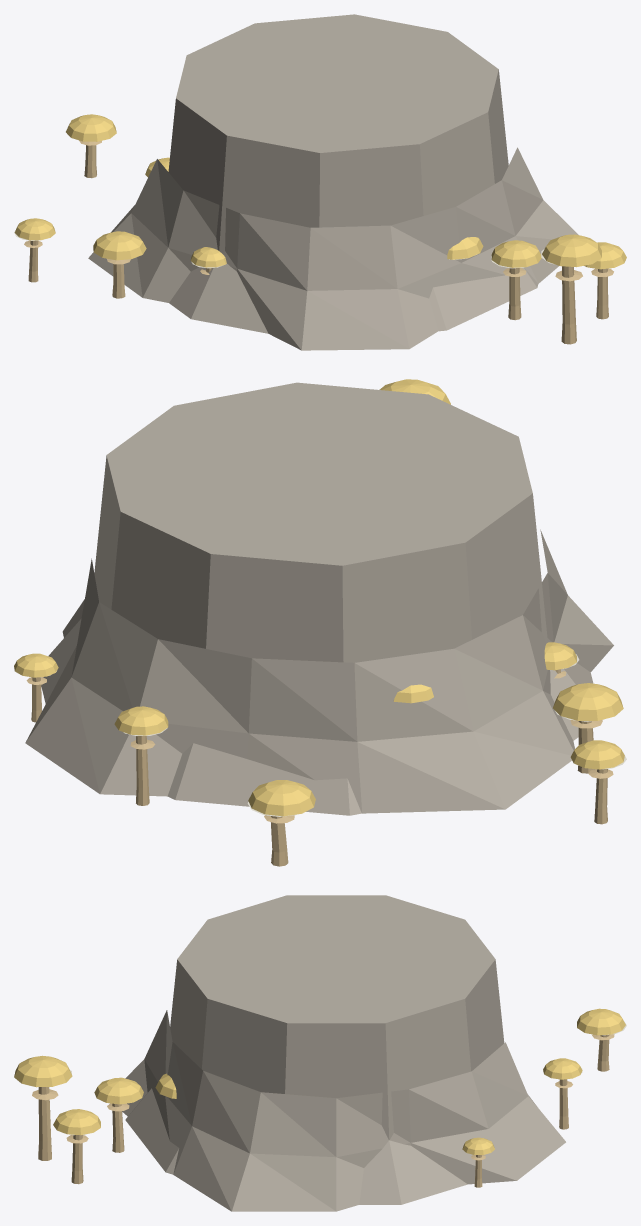
The model's file is temperate-forest-ecology-honey-fungus-clump-d54f1685__3871.glb.
The picture shows the model from 3 angles, top to bottom: view 1: azimuth 30°, elevation 25°; view 2: azimuth 150°, elevation 25°; view 3: azimuth 270°, elevation 25°; orthographic projection. The views are drawn at different scales.
Parts seen in each view (by area): view 1: honey-fungus-clump; view 2: honey-fungus-clump; view 3: honey-fungus-clump.
Boxes of the visible parts, x1,y1,x2,y2 form: honey-fungus-clump: (14,14,626,350); honey-fungus-clump: (14,379,626,866); honey-fungus-clump: (14,895,626,1211).
Size of the model in its own units: 1.06 by 0.36 by 1.24.
